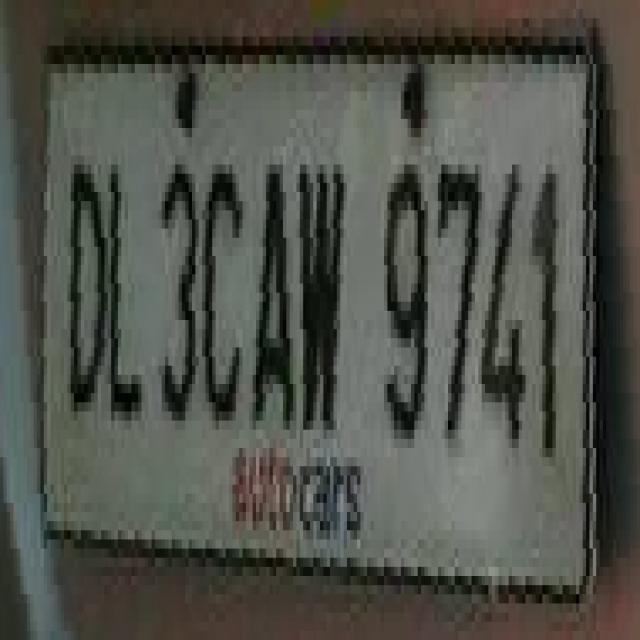license_plate: (17, 18, 579, 576)
